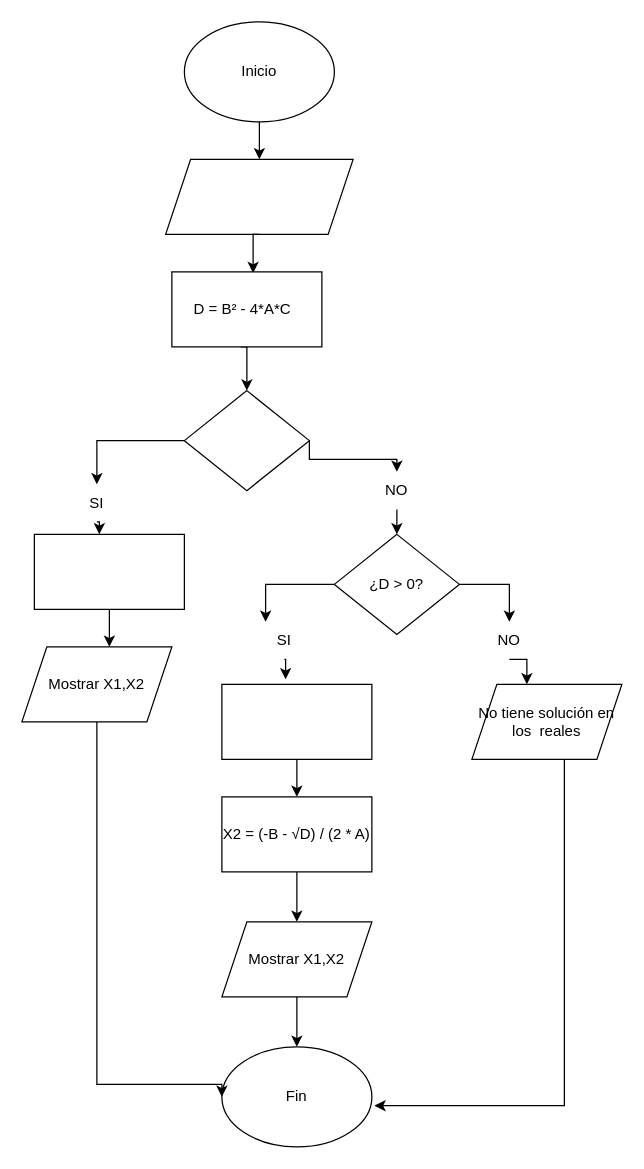
The diagram is 644 pixels wide and 1169 high, and some of its shapes have lost their labels. The centre of each missing label's shape, as x and y in pixels:
Leer A, B, C: pixel 258 196
X1 = (-B + √D) / (2 * A): pixel 296 721
X1 = -B / (2 * A) X2 = X1: pixel 108 571
¿D == 0?: pixel 246 440
